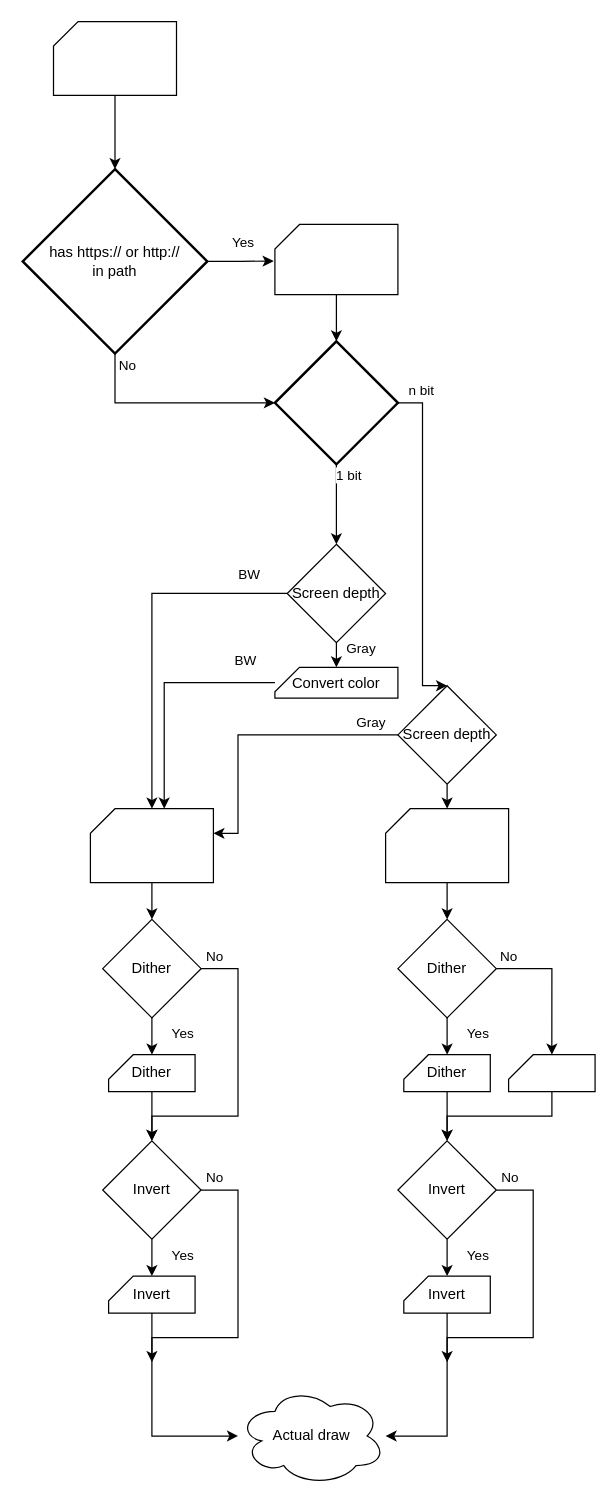
This 616x1507 diagram has some shape labels left out. Each missing label, with the box of its shape:
Awesome!: (89, 807, 213, 883)
Bad!: (384, 807, 509, 883)
downloadFile(): (274, 223, 398, 295)
drawImage(): (52, 20, 177, 95)
Image depth: (273, 339, 399, 465)
Threshold: (507, 1053, 595, 1092)
